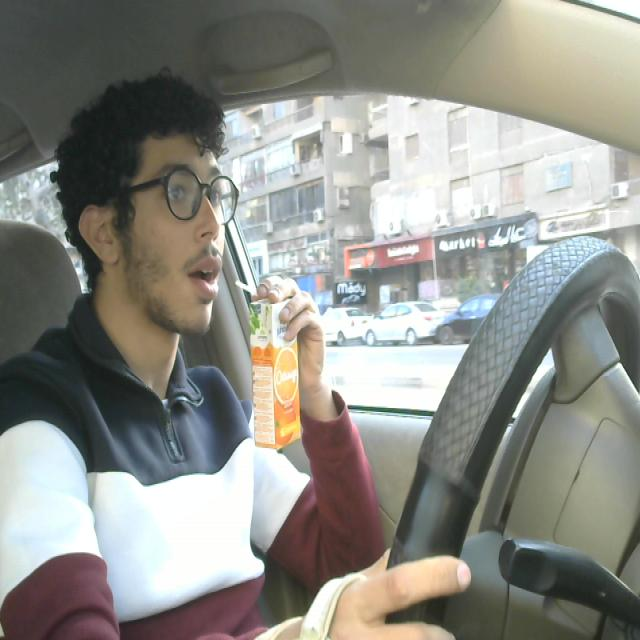drinking: (232, 268, 310, 451)
